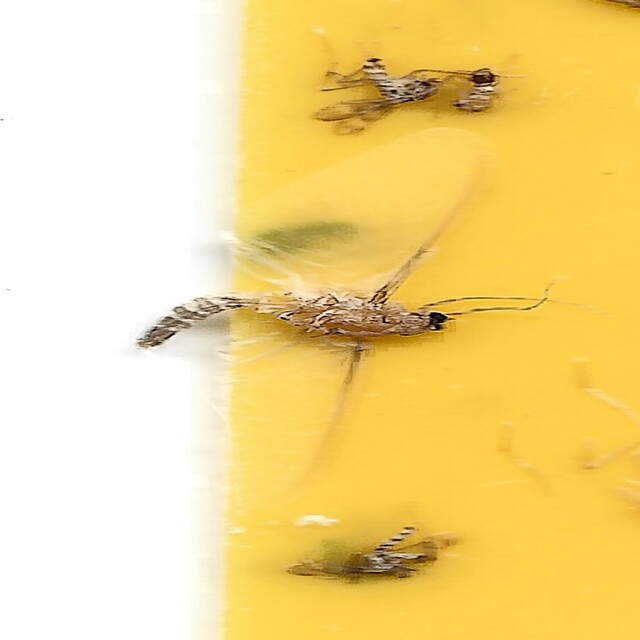Ephemeroptera: (131, 167, 464, 499)
Isoptera: (447, 65, 509, 113)
Nematocera: (282, 525, 440, 584), (313, 56, 440, 129)
